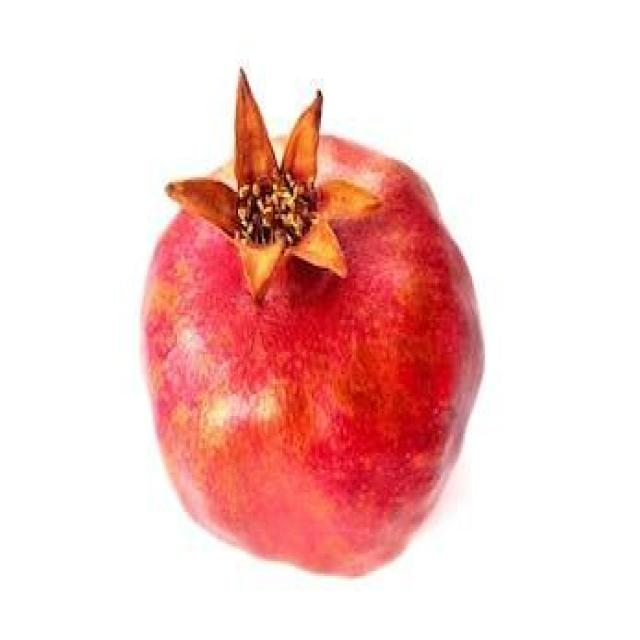Pomegranate: (135, 57, 488, 583)
